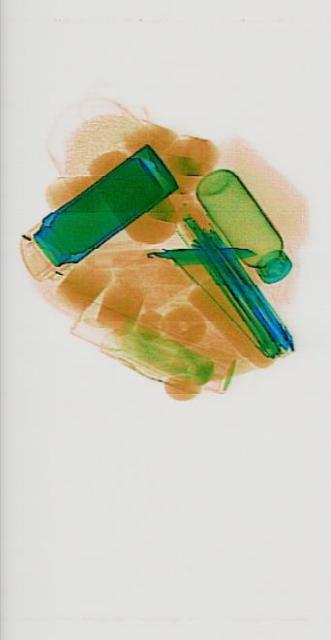Knife: (145, 242, 256, 266)
